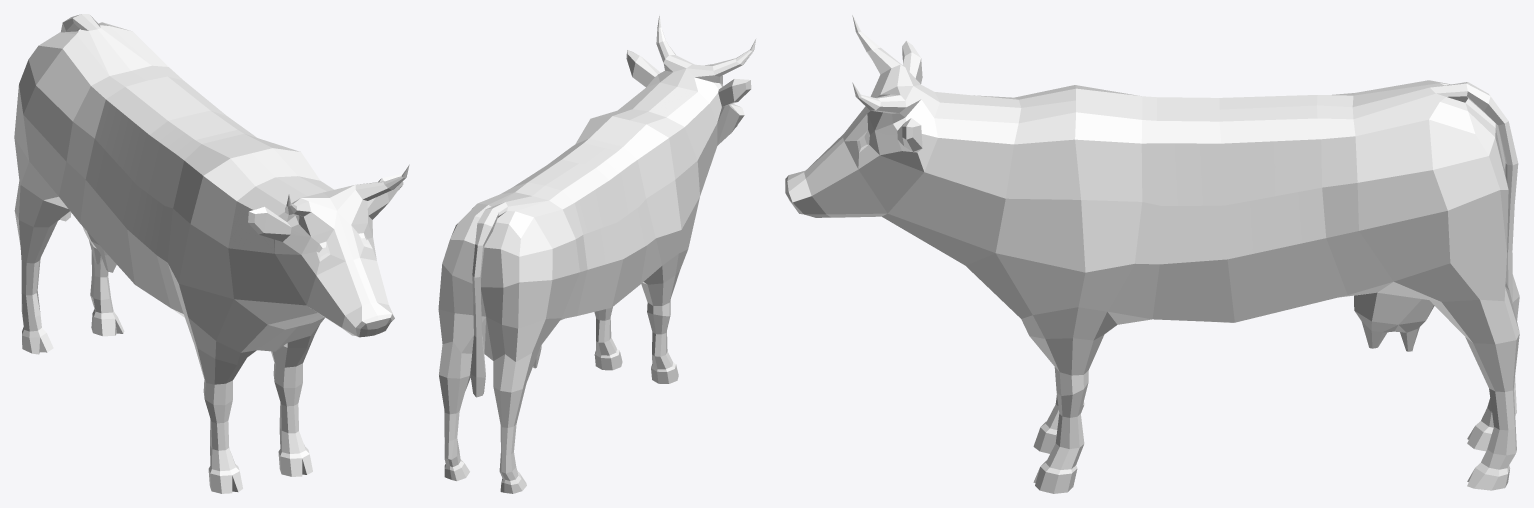
File: Cow_noanim4.glb
3 views of the same model, side by side, from view 1: azimuth 30°, elevation 25°; view 2: azimuth 150°, elevation 25°; view 3: azimuth 270°, elevation 25° (orthographic). The views are drawn at different scales.
Parts seen in each view (by area): view 1: node_id6; view 2: node_id6; view 3: node_id6.
Part boxes in pixels (<box>): node_id6: <box>14,14,409,493</box>; node_id6: <box>438,14,756,493</box>; node_id6: <box>785,15,1519,493</box>.
Bounding box in the file's own units: 0.2274 × 0.512 × 0.8121.
1 material, 1 textured.
